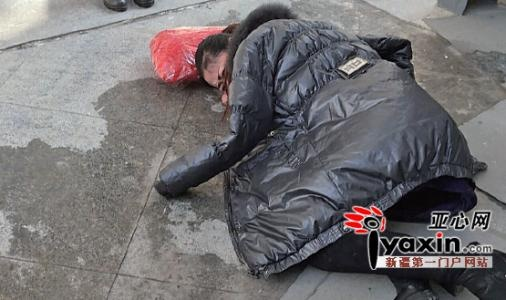falling: (154, 3, 495, 295)
